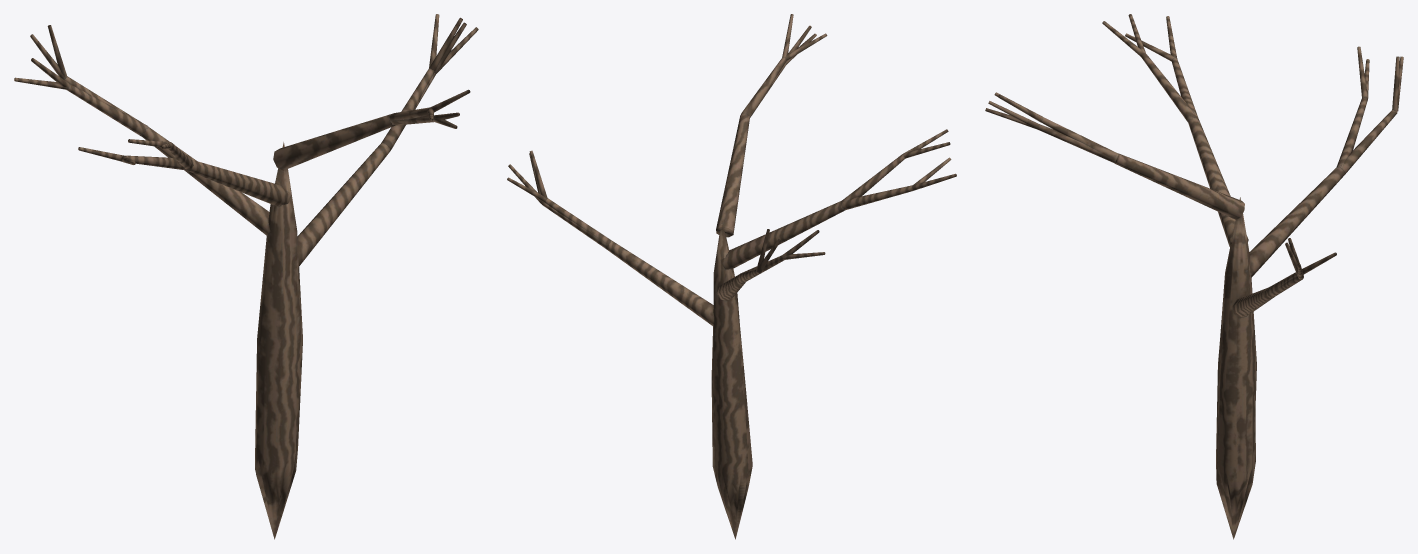
The model's file is dead_tree.glb.
The picture shows the model from 3 angles, left to right: view 1: azimuth 30°, elevation 25°; view 2: azimuth 150°, elevation 25°; view 3: azimuth 270°, elevation 25°; orthographic projection. The views are drawn at different scales.
Parts seen in each view (by area): view 1: dead_tree; view 2: dead_tree; view 3: dead_tree.
Boxes of the visible parts, x1=… form: dead_tree: x1=14, y1=14, x2=478, y2=539; dead_tree: x1=507, y1=14, x2=956, y2=539; dead_tree: x1=985, y1=14, x2=1403, y2=539.
Size of the model in its own units: 6.69 by 7.16 by 5.76.
1 material, 1 textured.
